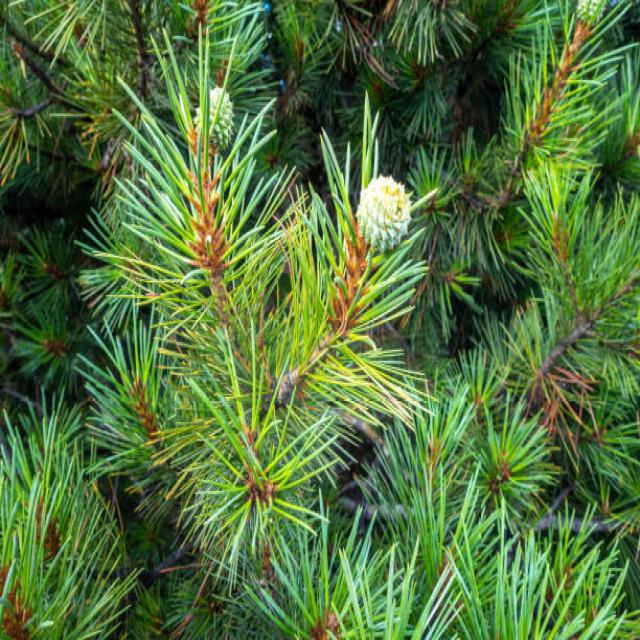Pine: (354, 225, 640, 640), (130, 299, 467, 640), (12, 362, 292, 640), (278, 78, 480, 414), (449, 5, 602, 222), (193, 55, 346, 264), (91, 122, 287, 273)
